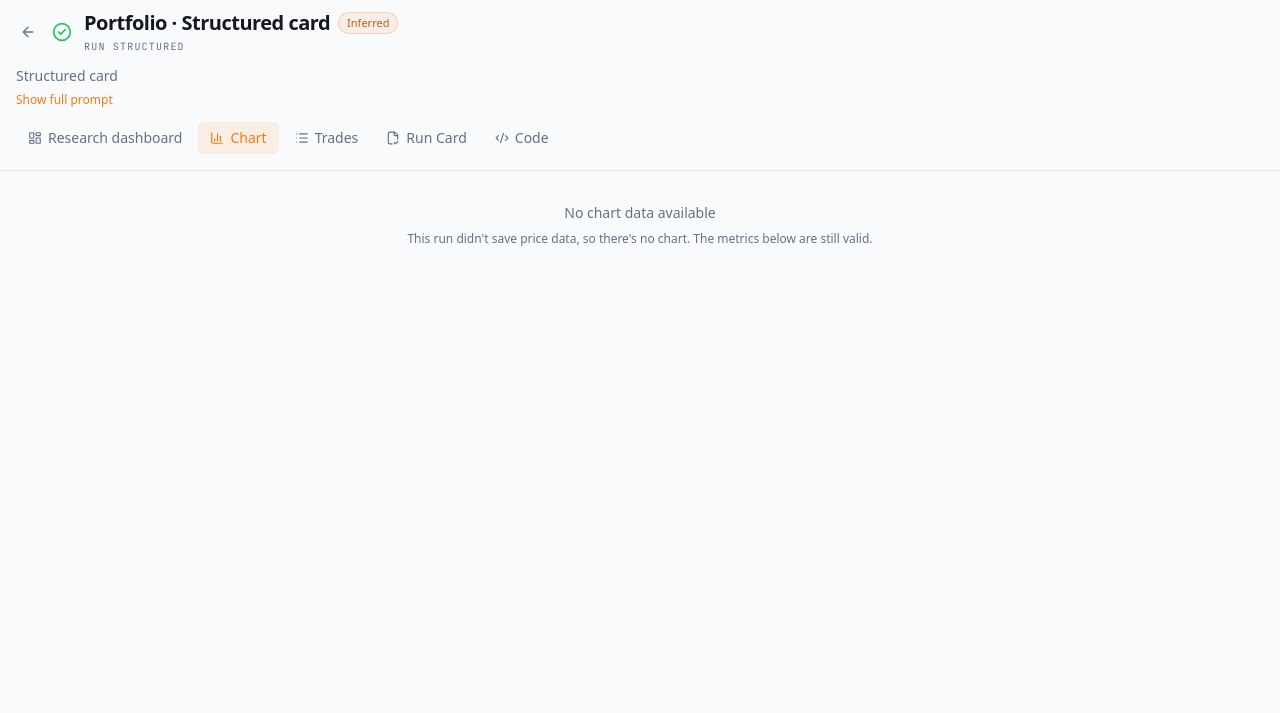
Scenario: RunDetail page › renders structured metrics that the scalar `metrics` block cannot hold
Check: the text "Structured card" is shown, box [16,66,118,85]
Click the tab "Run Card".
click(427, 138)  # box [374,122,479,154]
(page scrolled)
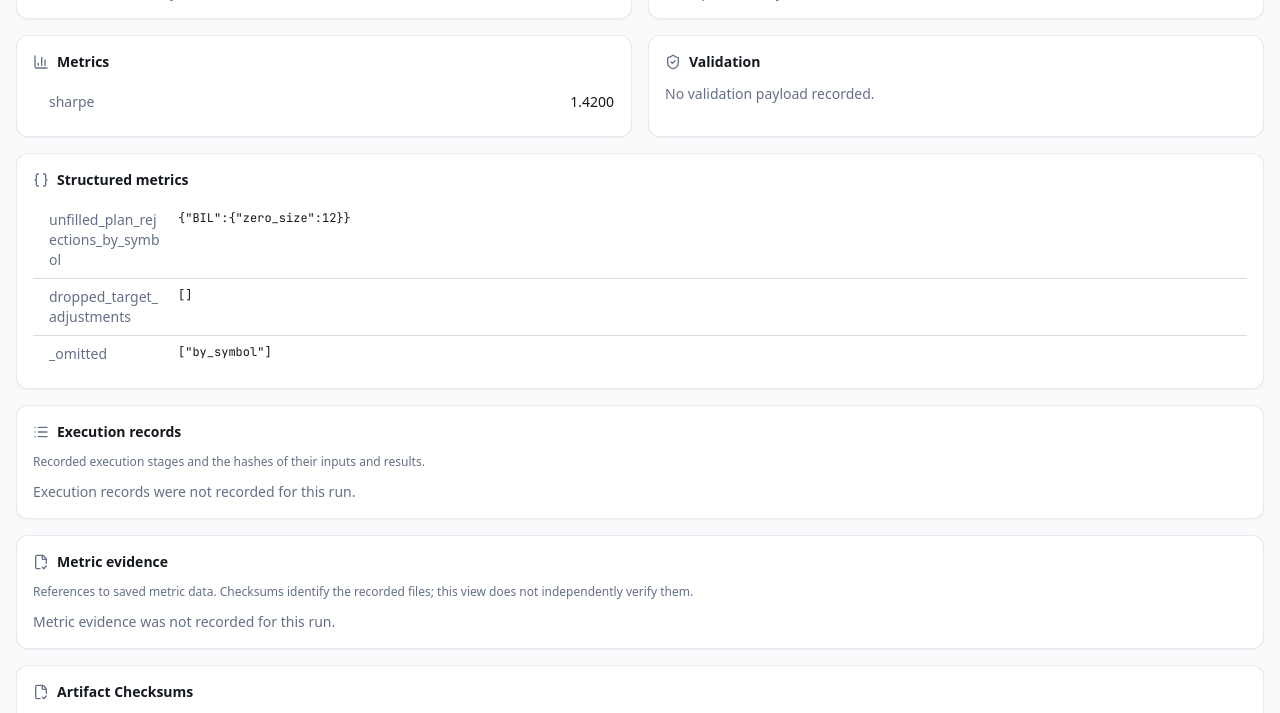
Check: the text "unfilled_plan_rejections_by_symbol" is shown, box [33,202,177,278]
Check: the text "{\"BIL\":{\"zero_size\":12}}" is shown, box [177,202,1247,278]
Check: the text "[]" is shown, box [177,278,1247,336]
